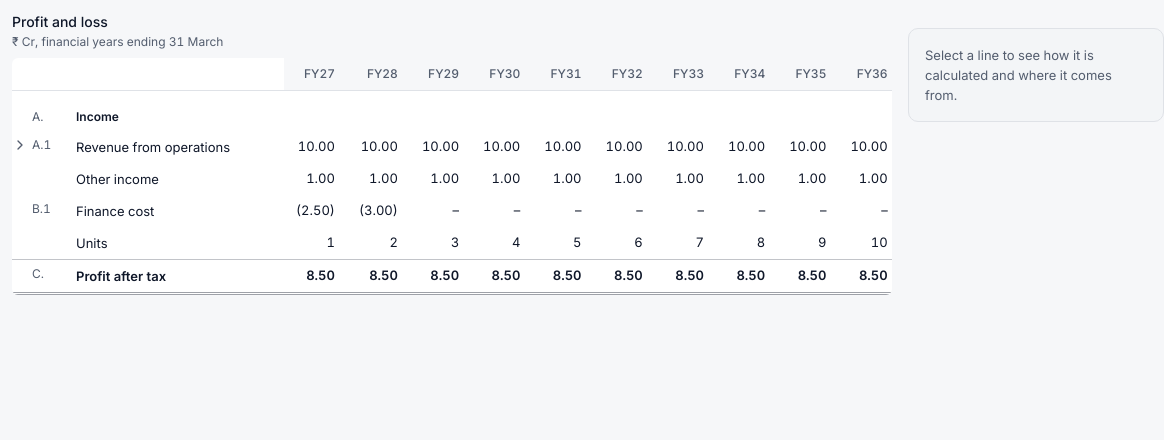
Test case: StatementTable › nests to depth 3 (the contract), no deeper, and collapsing a parent clears a hidden selection
What coordinates should you click on to do the following:
click the button named "Breakdown of Revenue from operations"
I would click on:
 (20, 145)
Its box is [12, 137, 28, 153].
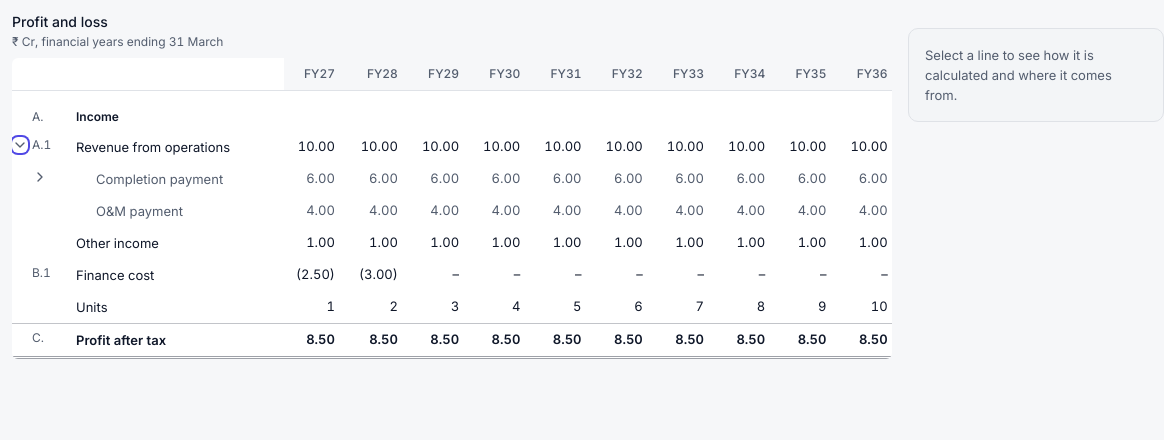
What coordinates should you click on to do the following:
click the button named "Breakdown of Completion payment"
I would click on:
 (40, 177)
Its box is [32, 169, 48, 185].
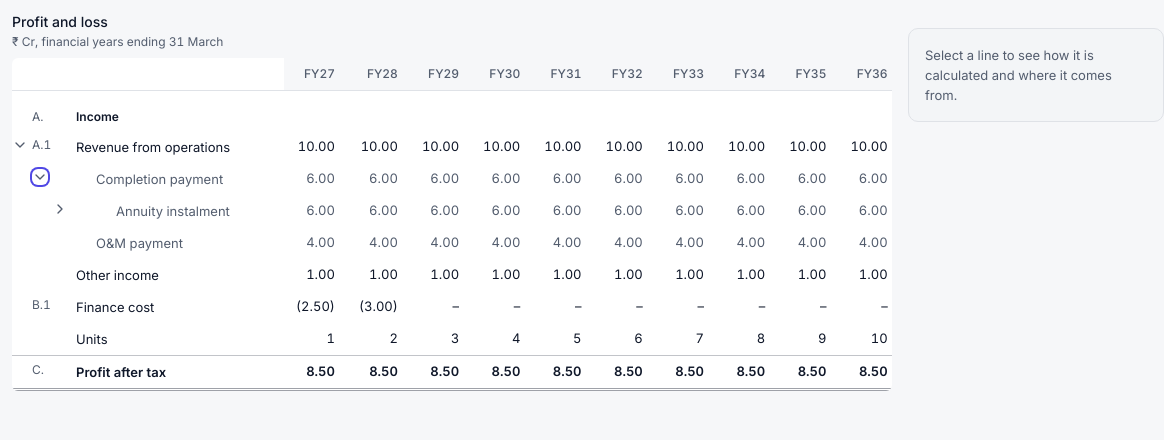
What coordinates should you click on to do the following:
click the button named "Breakdown of Annuity instalment"
I would click on:
 (60, 209)
Its box is [52, 201, 68, 217].
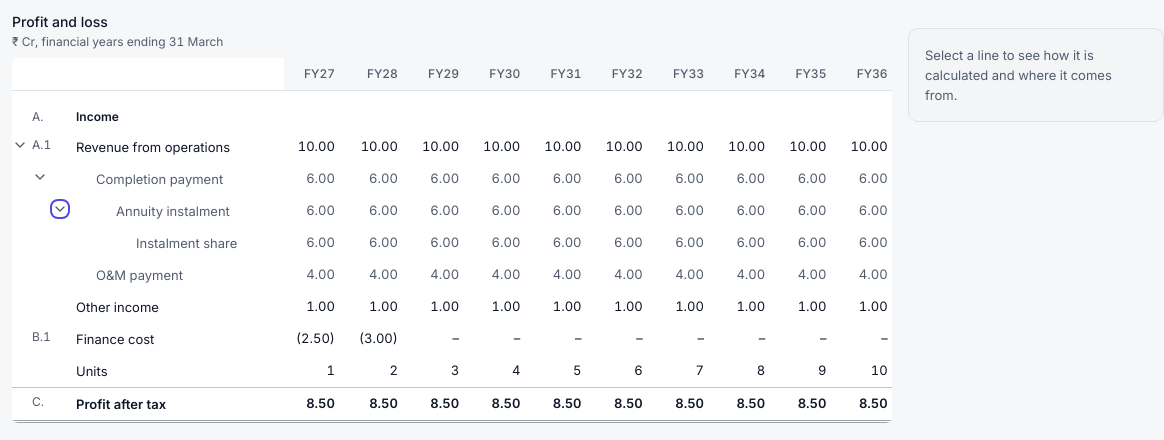
What coordinates should you click on to do the following:
click the button "Instalment share"
I would click on:
 (182, 243)
Its box is [92, 231, 272, 255].
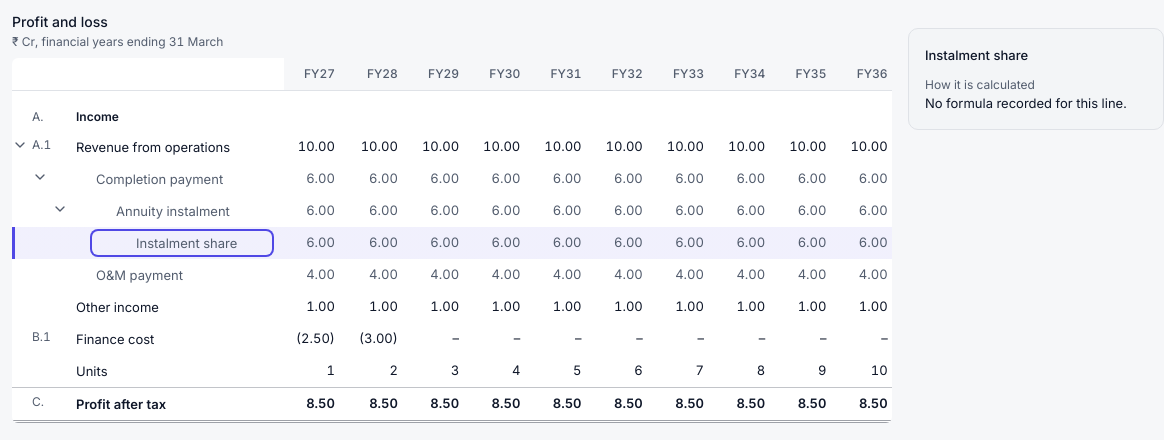
Expected: the element named "Line detail" shows "Instalment share", [925, 47, 1028, 63]
What coordinates should you click on to do the following:
click the button named "Breakdown of Revenue from operations"
I would click on:
 (20, 145)
Its box is [12, 137, 28, 153].
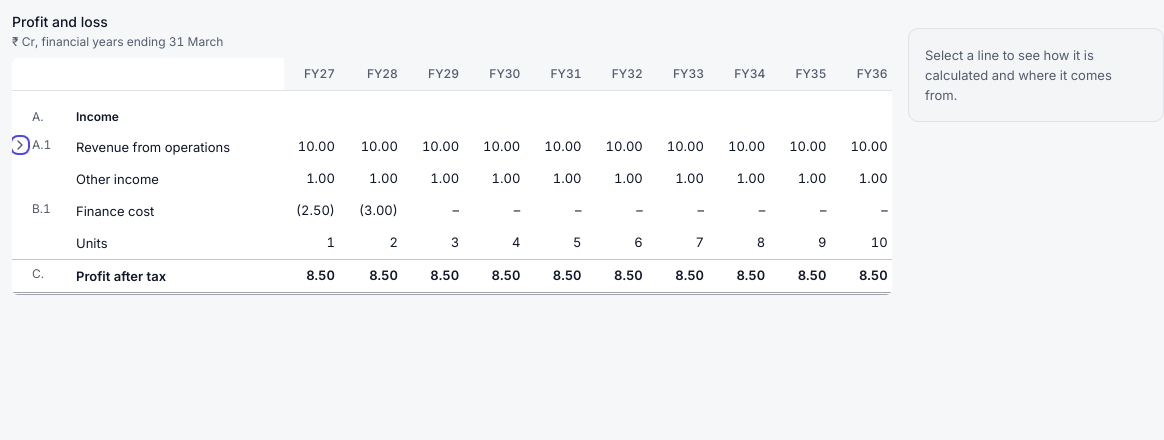
Expected: the button "Instalment share" is gone
Expected: the element named "Line detail" shows "Select a line", [925, 47, 1112, 103]
